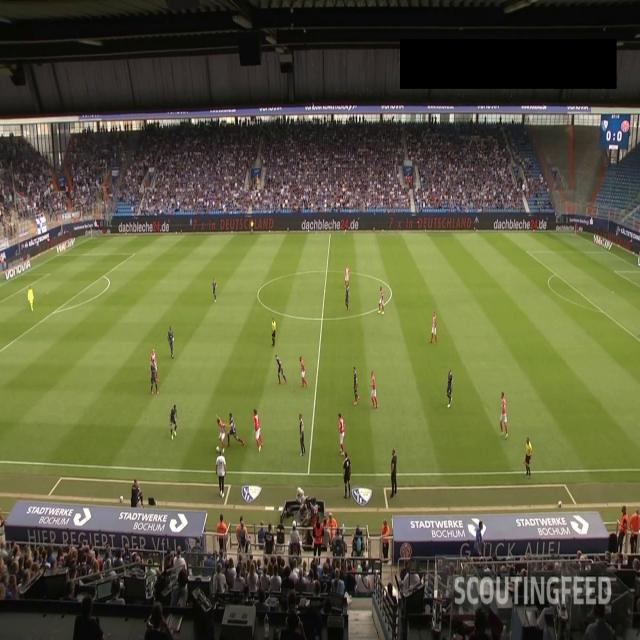ball: (215, 442, 221, 456)
player: (497, 388, 510, 433), (272, 351, 288, 387), (295, 415, 309, 455), (337, 412, 347, 456), (216, 416, 229, 449), (446, 369, 456, 409), (228, 412, 240, 445), (253, 408, 263, 447), (297, 354, 307, 390), (166, 322, 176, 358), (170, 403, 180, 438), (370, 368, 379, 404), (352, 363, 359, 403), (26, 286, 36, 314), (430, 310, 438, 343), (150, 352, 158, 380), (211, 280, 220, 304), (152, 364, 158, 396), (377, 286, 384, 312), (343, 263, 350, 289), (344, 287, 350, 312)
